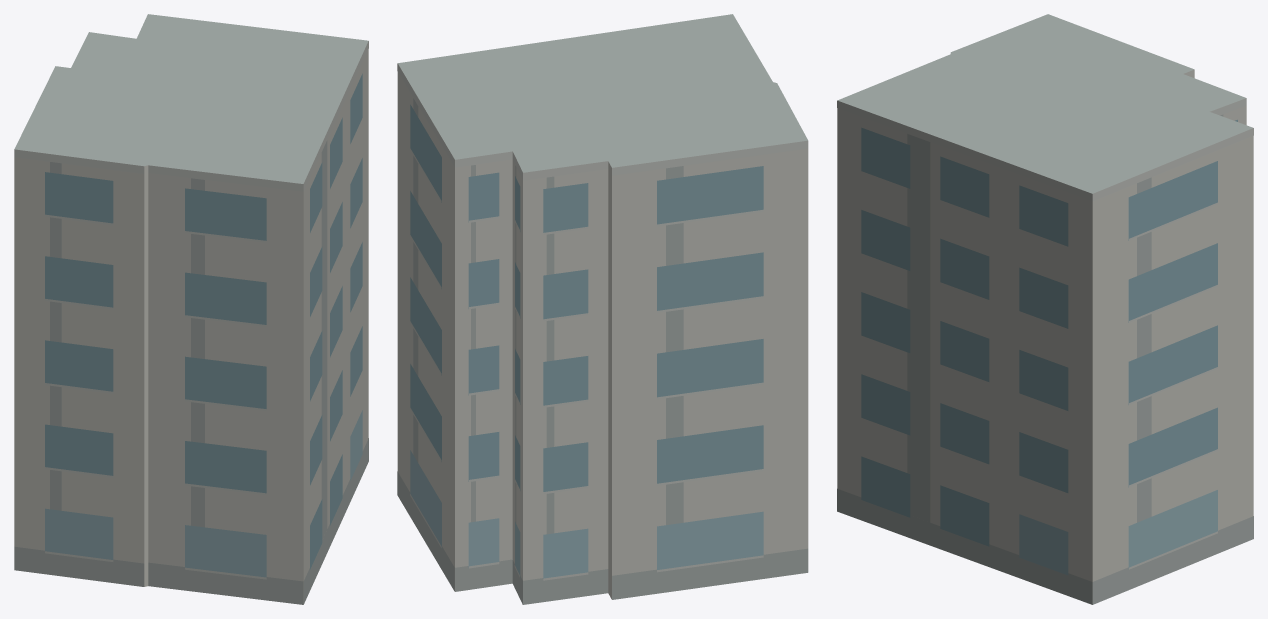
The model's file is survey-upis-32778368.glb.
3 views of the same model, side by side, from view 1: azimuth 30°, elevation 25°; view 2: azimuth 150°, elevation 25°; view 3: azimuth 270°, elevation 25° (orthographic). The views are drawn at different scales.
Parts seen in each view (by area): view 1: survey-upis-32778368.tmp; view 2: survey-upis-32778368.tmp; view 3: survey-upis-32778368.tmp.
Boxes of the visible parts, x1,y1,x2,y2 form: survey-upis-32778368.tmp: (14,14,368,604); survey-upis-32778368.tmp: (397,14,808,604); survey-upis-32778368.tmp: (837,14,1253,604).
Size of the model in its own units: 12.31 by 13.12 by 12.05.
